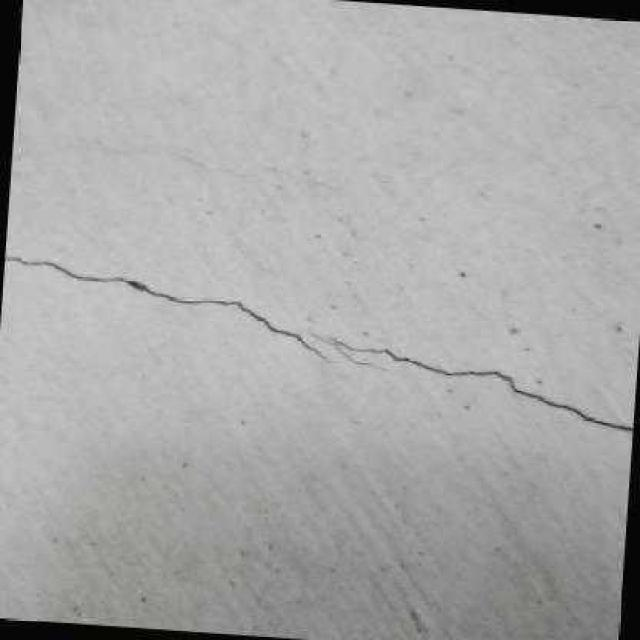D00: (4, 256, 333, 364), (306, 332, 633, 432)
